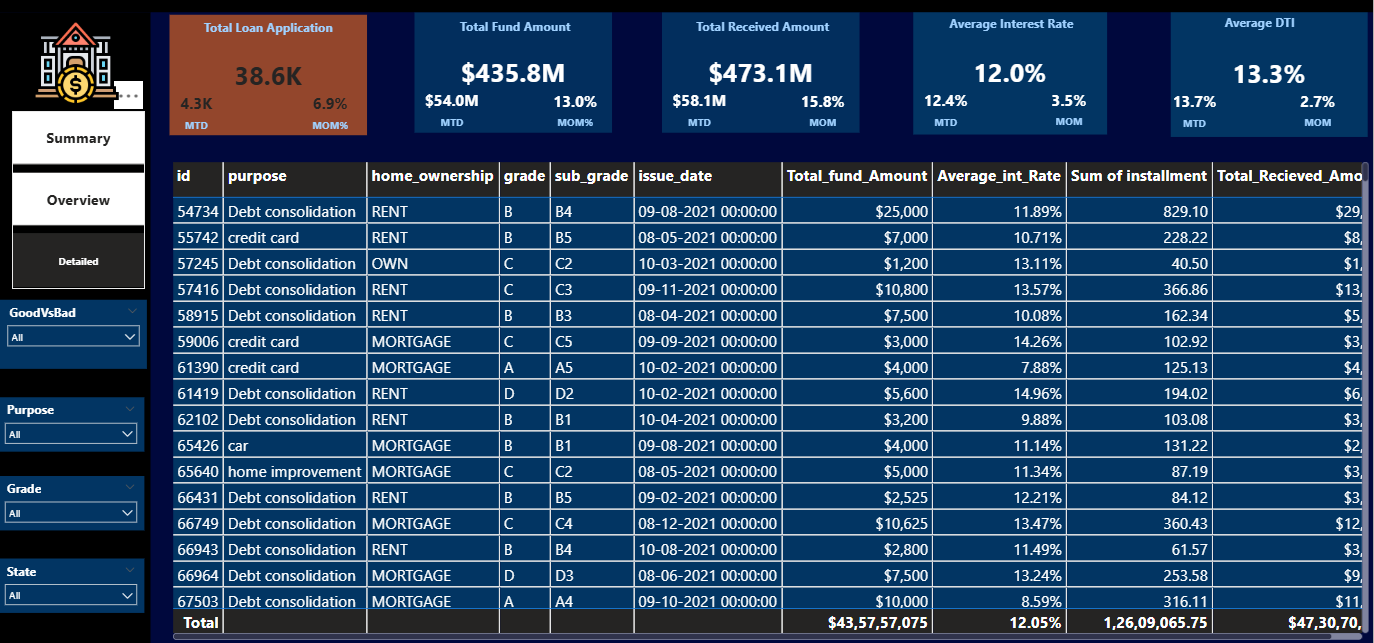

What the dashboard file says about the page in this screenshot:
{"tool":"powerbi","page":{"name":"Detailed","canvas":[1800,900],"ordinal":2},"visuals":[{"type":"group","id":"g1","title":"Group 1","box":[224.8,76.8,257.7,159],"z":0},{"type":"card","fields":{"Values":["Bank_loan.Total_Loan_Application"]},"box":[224.8,76.8,258.7,157.9],"z":0,"group":"g1"},{"type":"group","id":"g2","title":"Group 2","box":[546.6,73.7,259.8,158],"z":1000},{"type":"card","fields":{"Values":["Bank_loan.Total_fund_Amount"]},"box":[546.6,73.7,258.7,157.9],"z":1000,"group":"g2"},{"type":"textbox","box":[224.8,76.8,258.7,33.6],"z":1000,"group":"g1"},{"type":"group","id":"g3","title":"Group 5","box":[1519.4,69.7,272.9,166.5],"z":2000},{"type":"card","fields":{"Values":["Bank_loan.Total_Recieved_Amount"]},"box":[870.3,73.7,258.7,157.9],"z":2000,"group":"g4"},{"type":"card","fields":{"Values":["Bank_loan.MTD_Loan_Application"]},"box":[224.8,170.9,70.6,63.8],"z":2000,"group":"g1"},{"type":"card","fields":{"Values":["Bank_loan.Average_DTI"]},"box":[1535.4,69.7,257.4,166.5],"z":3000,"group":"g3"},{"type":"group","id":"g4","title":"Group 3","box":[870.3,73.7,259.8,158],"z":3000},{"type":"card","fields":{"Values":["Bank_loan.MOM%"]},"box":[386.1,170.9,97.4,63.8],"z":3000,"group":"g1"},{"type":"group","id":"g5","title":"Group 4","box":[1194.1,72.6,261.3,161.2],"z":4000},{"type":"card","fields":{"Values":["Bank_loan.Average_int_Rate"]},"box":[1198.5,72.6,253.3,161.2],"z":4000,"group":"g5"},{"type":"shape","box":[0,0,1800,73.5],"z":5000},{"type":"textbox","box":[1524.5,70.1,255.7,34.1],"z":6000,"group":"g3"},{"type":"shape","box":[0,73.4,200.9,826.8],"z":6000},{"type":"textbox","box":[549.3,75.3,257.1,34.2],"z":6000,"group":"g2"},{"type":"textbox","box":[537,0,707,61.8],"z":7000},{"type":"textbox","box":[873,75.3,257.1,34.2],"z":7000,"group":"g4"},{"type":"card","fields":{"Values":["Bank_loan.MTD_Int_Rate"]},"box":[1194.1,166.7,95.3,64.7],"z":7000,"group":"g5"},{"type":"card","fields":{"Values":["Bank_loan.MTD_DTI"]},"box":[1519.4,167.2,95.3,64.7],"z":7000,"group":"g3"},{"type":"card","fields":{"Values":["Bank_loan.Total_funded_MTD"]},"box":[547.5,167,95.3,64.7],"z":8000,"group":"g2"},{"type":"card","fields":{"Values":["Bank_loan.MOM_int_rate%"]},"box":[1354.5,167.5,97.4,63.8],"z":8000,"group":"g5"},{"type":"card","fields":{"Values":["Bank_loan.MOM_DTE_%"]},"box":[1679.8,168,97.4,63.8],"z":8000,"group":"g3"},{"type":"slicer","fields":{"Values":["Bank_loan.purpose"]},"box":[0,577.6,193.2,71.5],"z":8000},{"type":"card","fields":{"Values":["Bank_loan.MTD_Loan_Recieved"]},"box":[871.2,167,95.3,64.7],"z":9000,"group":"g4"},{"type":"slicer","fields":{"Values":["Bank_loan.grade"]},"box":[0,680,193.2,71.5],"z":9000},{"type":"card","fields":{"Values":["Bank_loan.Funded_MOM%"]},"box":[707.9,167.8,97.4,63.8],"z":10000,"group":"g2"},{"type":"slicer","fields":{"Values":["Bank_loan.address_state"]},"box":[0,788.2,193.2,71.5],"z":10000},{"type":"card","fields":{"Values":["Bank_loan.MOM_Recieved_amount%"]},"box":[1031.6,167.8,97.4,63.8],"z":11000,"group":"g4"},{"type":"slicer","fields":{"Values":["Bank_loan.GoodVsBad"]},"box":[3.9,450.1,193.2,90.8],"z":11000},{"type":"textbox","box":[1198.5,72.6,256.9,33.7],"z":11001,"group":"g5"},{"type":"tableEx","fields":{"Values":["Bank_loan.id","Bank_loan.purpose","Bank_loan.home_ownership","Bank_loan.grade","Bank_loan.sub_grade","Bank_loan.issue_date","Bank_loan.Total_fund_Amount","Bank_loan.Average_int_Rate","Sum(Bank_loan.installment)","Bank_loan.Total_Recieved_Amount"]},"box":[224.5,265.2,1575.5,634.8],"z":12000},{"type":"pageNavigator","box":[19.4,203.2,174.2,232.3],"z":13000},{"type":"image","box":[9.8,76.9,186.4,125.9],"z":13001}]}

Visuals, with their boxes on the page's 1800x900 design canvas (x1, y1, x2, y2). These are canvas units, not pixel positions in the 1374x643 screenshot, which may show the page scaled, cropped or inside an application window:
"Group 1" group: bbox=[225, 77, 482, 236]
card - Bank_loan.Total_Loan_Application: bbox=[225, 77, 484, 235]
"Group 2" group: bbox=[547, 74, 806, 232]
card - Bank_loan.Total_fund_Amount: bbox=[547, 74, 805, 232]
textbox: bbox=[225, 77, 484, 110]
"Group 5" group: bbox=[1519, 70, 1792, 236]
card - Bank_loan.Total_Recieved_Amount: bbox=[870, 74, 1129, 232]
card - Bank_loan.MTD_Loan_Application: bbox=[225, 171, 295, 235]
card - Bank_loan.Average_DTI: bbox=[1535, 70, 1793, 236]
"Group 3" group: bbox=[870, 74, 1130, 232]
card - Bank_loan.MOM%: bbox=[386, 171, 484, 235]
"Group 4" group: bbox=[1194, 73, 1455, 234]
card - Bank_loan.Average_int_Rate: bbox=[1198, 73, 1452, 234]
shape: bbox=[0, 0, 1800, 74]
textbox: bbox=[1524, 70, 1780, 104]
shape: bbox=[0, 73, 201, 900]
textbox: bbox=[549, 75, 806, 110]
textbox: bbox=[537, 0, 1244, 62]
textbox: bbox=[873, 75, 1130, 110]
card - Bank_loan.MTD_Int_Rate: bbox=[1194, 167, 1289, 231]
card - Bank_loan.MTD_DTI: bbox=[1519, 167, 1615, 232]
card - Bank_loan.Total_funded_MTD: bbox=[548, 167, 643, 232]
card - Bank_loan.MOM_int_rate%: bbox=[1354, 168, 1452, 231]
card - Bank_loan.MOM_DTE_%: bbox=[1680, 168, 1777, 232]
slicer - Bank_loan.purpose: bbox=[0, 578, 193, 649]
card - Bank_loan.MTD_Loan_Recieved: bbox=[871, 167, 966, 232]
slicer - Bank_loan.grade: bbox=[0, 680, 193, 752]
card - Bank_loan.Funded_MOM%: bbox=[708, 168, 805, 232]
slicer - Bank_loan.address_state: bbox=[0, 788, 193, 860]
card - Bank_loan.MOM_Recieved_amount%: bbox=[1032, 168, 1129, 232]
slicer - Bank_loan.GoodVsBad: bbox=[4, 450, 197, 541]
textbox: bbox=[1198, 73, 1455, 106]
tableEx - Bank_loan.id x Bank_loan.purpose: bbox=[224, 265, 1800, 900]
pageNavigator: bbox=[19, 203, 194, 436]
image: bbox=[10, 77, 196, 203]
